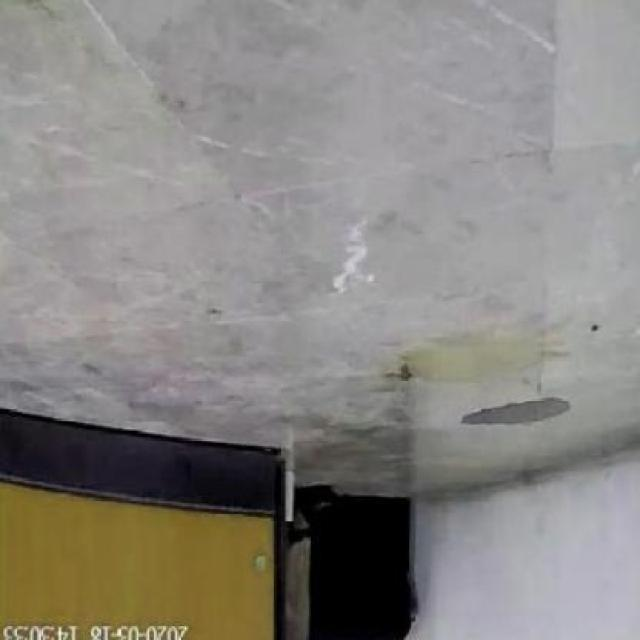spillage: (461, 394, 571, 426)
